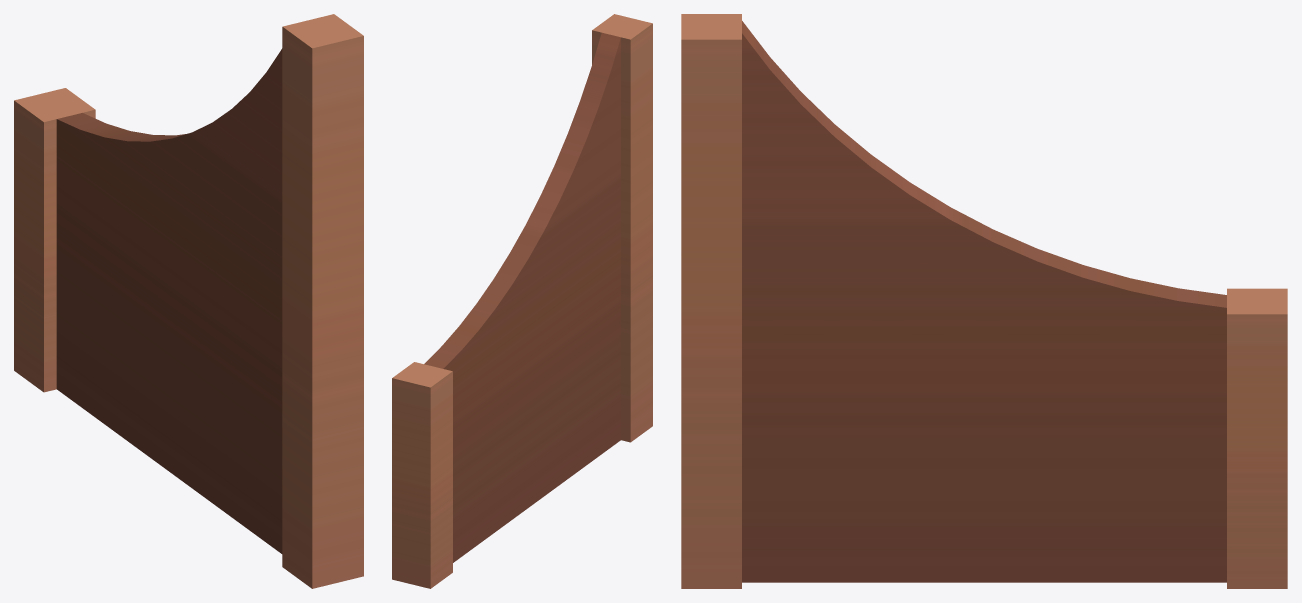
File: wall-wood-slope.glb
3 renders of one model, left to right at view 1: azimuth 30°, elevation 25°; view 2: azimuth 150°, elevation 25°; view 3: azimuth 270°, elevation 25°, orthographic. The views are drawn at different scales.
Parts seen in each view (by area): view 1: wall-wood-slope; view 2: wall-wood-slope; view 3: wall-wood-slope.
Boxes of the visible parts, box(x1,y1,x2,y2) form: wall-wood-slope: box(14, 14, 363, 588); wall-wood-slope: box(392, 14, 652, 588); wall-wood-slope: box(681, 14, 1287, 588).
Size of the model in its own units: 0.1 by 1 by 1.
1 material, 1 textured.
